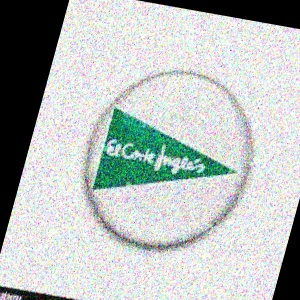corte_ingles: (100, 103, 300, 257)
